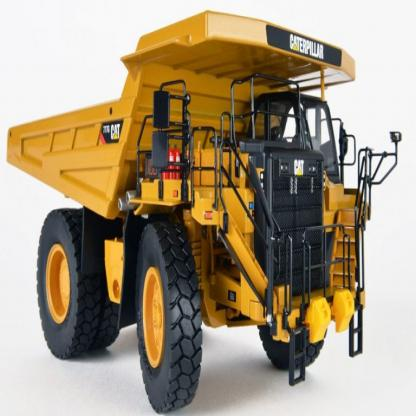dump_truck: (7, 8, 386, 410)
